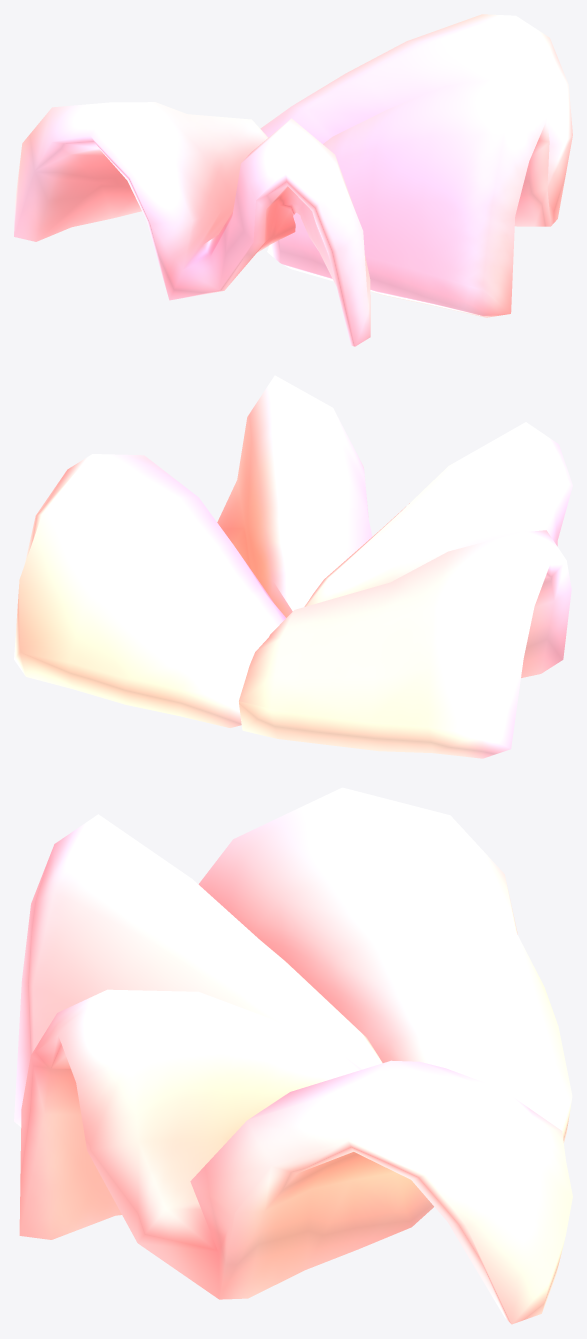
File: kokardka.glb
3 views of the same model, one above another, from view 1: azimuth 30°, elevation 25°; view 2: azimuth 150°, elevation 25°; view 3: azimuth 270°, elevation 25° (orthographic). The views are drawn at different scales.
Visible parts, largest first — view 1: Ribbon_Small5; view 2: Ribbon_Small5; view 3: Ribbon_Small5.
Boxes of the visible parts, x1,y1,x2,y2 form: Ribbon_Small5: (14,14,572,346); Ribbon_Small5: (14,375,572,758); Ribbon_Small5: (14,787,572,1324).
Size of the model in its own units: 0.0131 by 0.00598 by 0.00962.
1 material, 1 textured.
